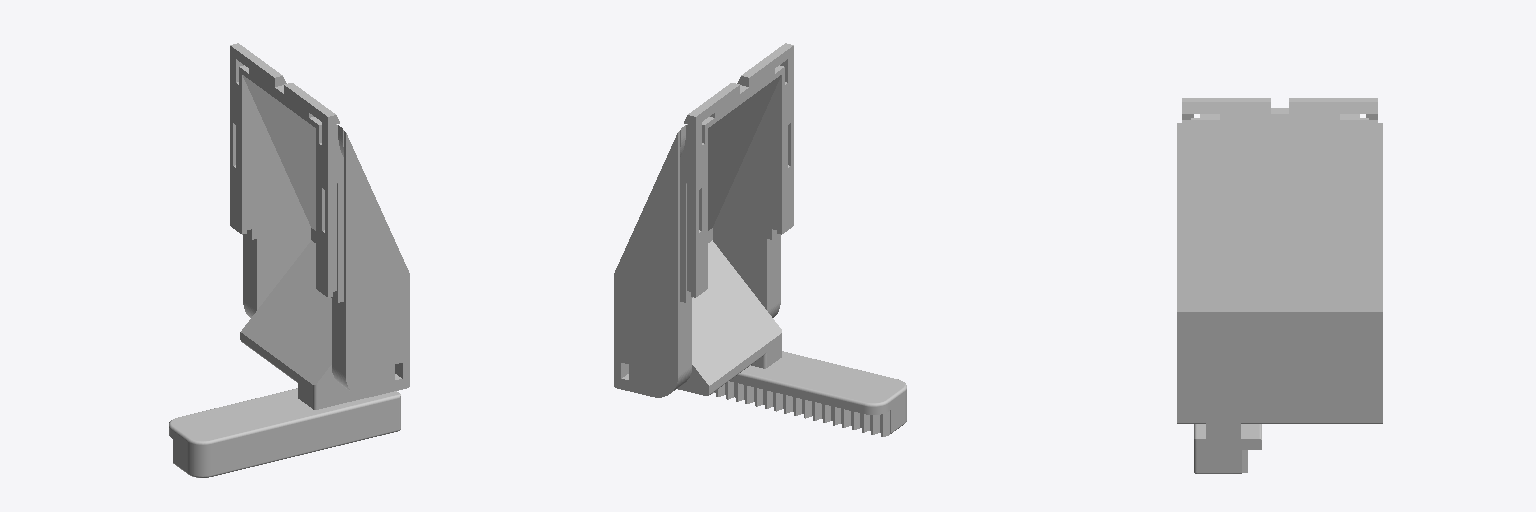
File: Prints_fingerRack.obj
3 views of the same model, side by side, from view 1: azimuth 30°, elevation 25°; view 2: azimuth 150°, elevation 25°; view 3: azimuth 270°, elevation 25° (orthographic).
Parts seen in each view (by area): view 1: fingerRack; view 2: fingerRack; view 3: fingerRack.
Boxes of the visible parts, box(x1,y1,x2,y2) form: fingerRack: box(169, 43, 409, 477); fingerRack: box(614, 43, 906, 436); fingerRack: box(1177, 98, 1382, 473).
Size of the model in its own units: 0.052 by 0.0817 by 0.045.